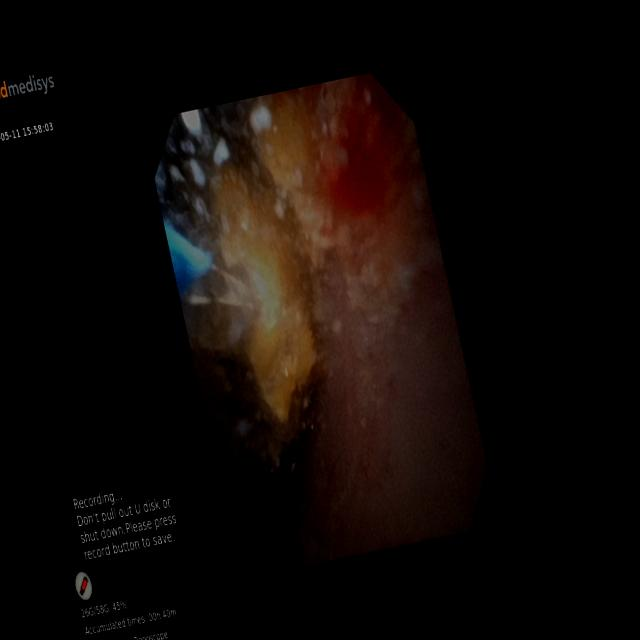laser-fibre: (184, 267, 252, 307)
laser_dot: (252, 271, 266, 300)
stone-new: (182, 166, 315, 461), (259, 95, 315, 190)
